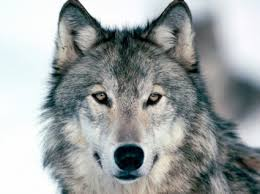Lobo: (46, 2, 232, 192)
